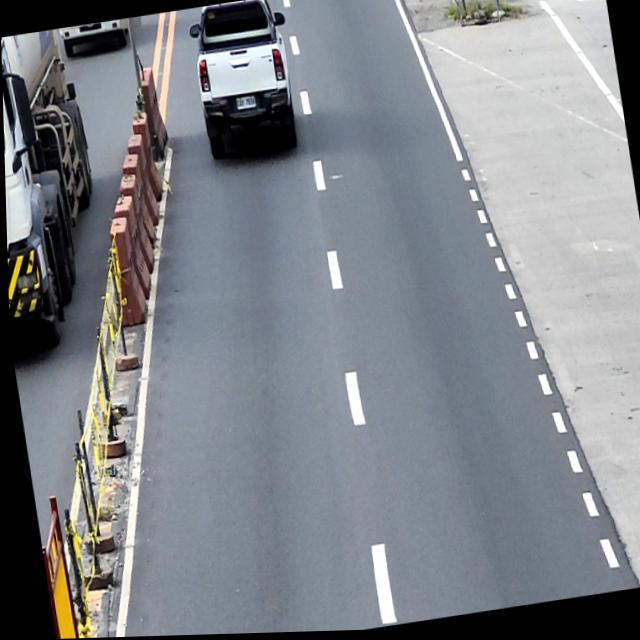Car: (184, 0, 302, 162)
License-Plate: (233, 94, 256, 112)
Truck: (1, 26, 114, 352)
